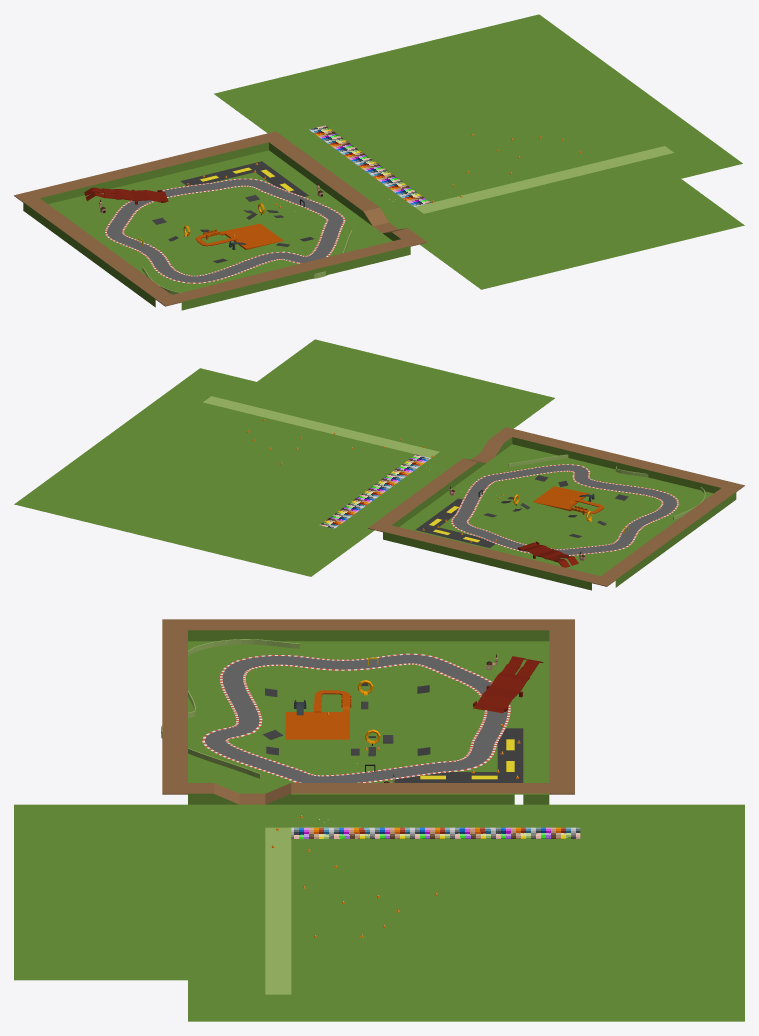
Rendered from test-course.glb.
3 renders of one model, top to bottom at view 1: azimuth 30°, elevation 25°; view 2: azimuth 150°, elevation 25°; view 3: azimuth 270°, elevation 25°, orthographic. The views are drawn at different scales.
Parts seen in each view (by area): view 1: ground, road-2, house.003, bridge; view 2: ground, road-2, house.003, bridge, house.006; view 3: ground, road-2, house.003, bridge, house.006.
Boxes of the visible parts, x1,y1,x2,y2 form: ground: (14, 14, 744, 310); road-2: (105, 178, 345, 283); house.003: (195, 223, 283, 249); bridge: (84, 187, 168, 204); ground: (14, 339, 744, 590); road-2: (451, 464, 678, 555); house.003: (533, 486, 604, 514); bridge: (517, 541, 578, 567); house.006: (508, 454, 705, 519); ground: (14, 619, 744, 1021); road-2: (202, 653, 510, 782); house.003: (285, 690, 351, 739); bridge: (473, 656, 543, 713); house.006: (161, 639, 299, 778).
Bounding box in the file's own units: 1795 × 43.23 × 1417.
Materials: 1 (1 with a texture image).
